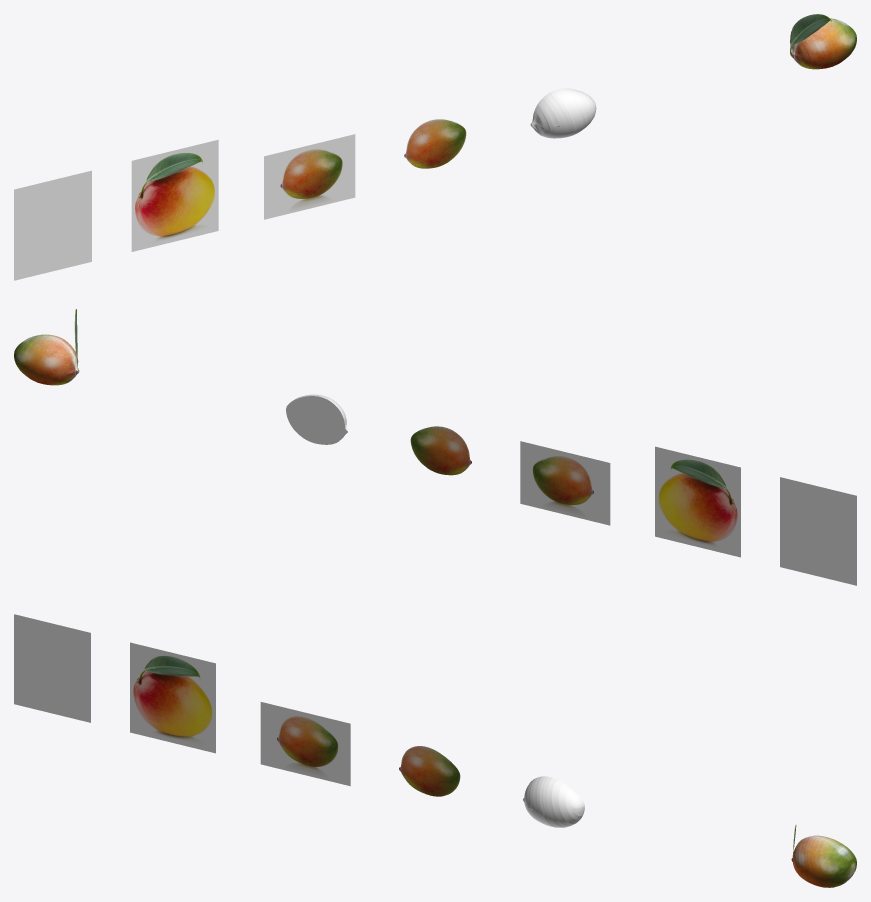
The model's file is mango.dae.
The picture shows the model from 3 angles, top to bottom: view 1: azimuth 30°, elevation 25°; view 2: azimuth 150°, elevation 25°; view 3: azimuth 330°, elevation 25°; orthographic projection.
Parts seen in each view (by area): view 1: SketchUp (×6), group_15, group_16; view 2: SketchUp (×7), group_15; view 3: SketchUp (×6), group_15.
Part boxes in pixels (<box>): SketchUp (×6): <box>14,119,466,280</box>; group_15: <box>791,19,856,69</box>; group_16: <box>790,14,832,56</box>; SketchUp (×7): <box>286,396,856,585</box>; group_15: <box>14,336,78,385</box>; SketchUp (×6): <box>14,614,460,796</box>; group_15: <box>791,836,853,887</box>.
Size of the model in its own units: 577 by 37.52 by 59.5.
3 materials, 2 textured.
